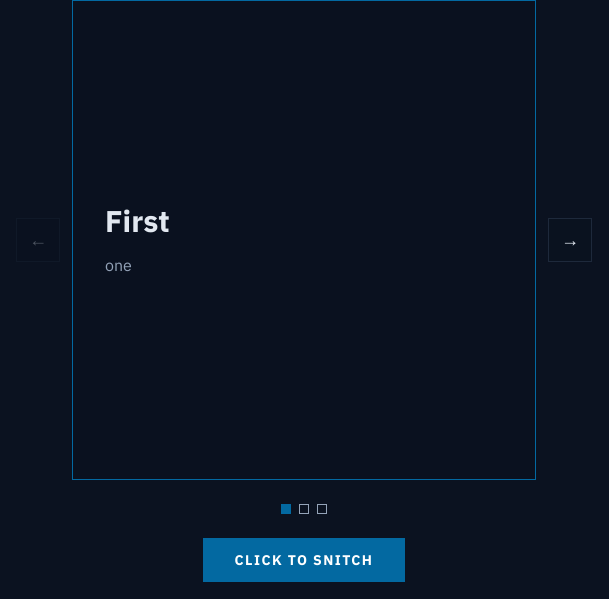
it: beta testers carousel › shows a down arrow at the bottom of the last card only, pointing at the button
Click the button named "Show 3 of 3" at (322, 509), box [317,504,327,514]
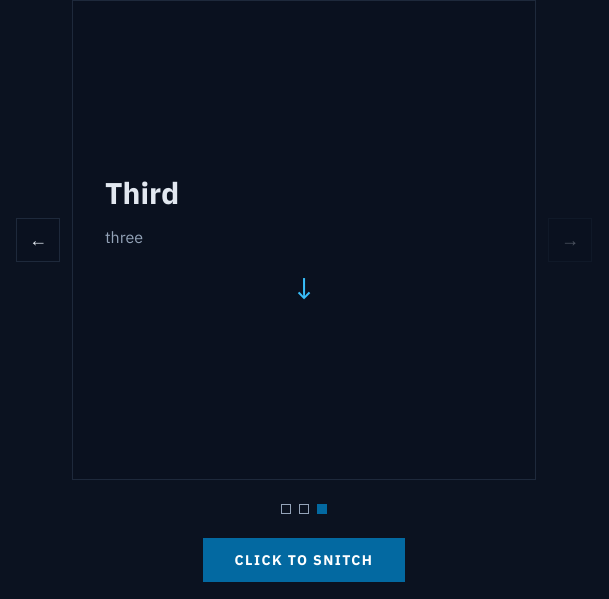
expect the text with test id "down-arrow" reads "↓": met, box [292,268,316,307]
